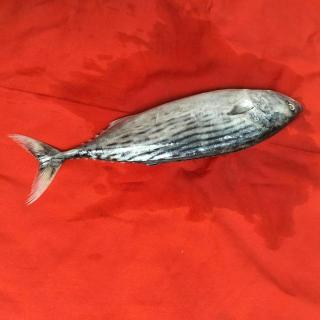Ikan: (23, 83, 303, 205)
